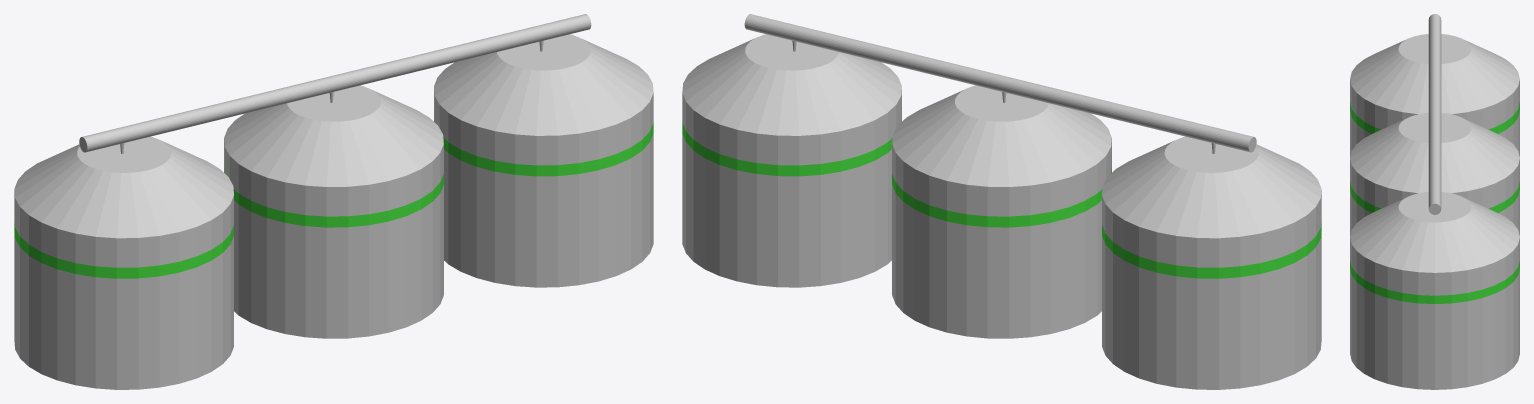
File: silos.fbx
3 views of the same model, side by side, from view 1: azimuth 30°, elevation 25°; view 2: azimuth 150°, elevation 25°; view 3: azimuth 270°, elevation 25° (orthographic). The views are drawn at different scales.
Visible parts, largest first — view 1: Cylinder, Cylinder.001; view 2: Cylinder, Cylinder.001; view 3: Cylinder, Cylinder.001.
Boxes of the visible parts, x1,y1,x2,y2 form: Cylinder: [14, 34, 653, 389]; Cylinder.001: [79, 14, 591, 152]; Cylinder: [682, 34, 1321, 389]; Cylinder.001: [744, 14, 1256, 152]; Cylinder: [1350, 34, 1519, 389]; Cylinder.001: [1428, 14, 1441, 214].
Size of the model in its own units: 1231 by 385 by 416.
